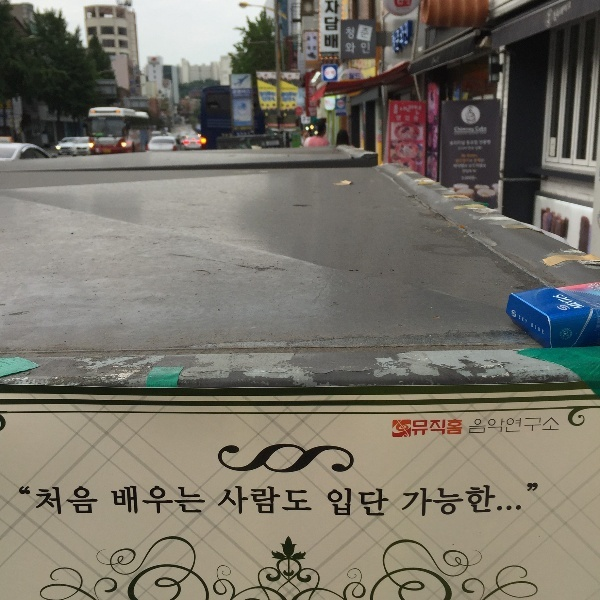text: (325, 2, 336, 49), (417, 483, 432, 517), (433, 483, 448, 517), (449, 483, 464, 517), (465, 483, 480, 517), (481, 483, 496, 517), (497, 483, 512, 517), (513, 483, 528, 517), (33, 486, 48, 517), (49, 486, 64, 517), (65, 486, 80, 517), (81, 486, 96, 517), (113, 487, 128, 516), (129, 487, 144, 516), (145, 487, 160, 516), (161, 487, 176, 516), (177, 487, 192, 516), (241, 487, 256, 516), (257, 487, 272, 516), (273, 487, 288, 516), (289, 487, 304, 516), (18, 486, 32, 517), (337, 490, 352, 518), (353, 490, 368, 518), (369, 490, 384, 518), (404, 483, 416, 517), (193, 487, 207, 516), (226, 487, 240, 516), (529, 483, 540, 517), (391, 20, 400, 55), (545, 417, 561, 434), (417, 420, 432, 437), (433, 420, 448, 437), (481, 417, 496, 434), (497, 417, 512, 434), (513, 417, 528, 434), (529, 417, 544, 434), (327, 490, 336, 518), (401, 20, 408, 55), (449, 420, 463, 437), (353, 26, 369, 40), (305, 487, 312, 516), (353, 42, 368, 55), (308, 102, 320, 117), (470, 417, 480, 434), (567, 294, 576, 312), (562, 331, 576, 342), (577, 294, 585, 312), (309, 87, 320, 100), (259, 92, 272, 103), (385, 490, 390, 518), (532, 323, 544, 334), (565, 328, 576, 340), (401, 105, 416, 113), (345, 26, 352, 40), (337, 2, 339, 49), (563, 331, 576, 338), (345, 42, 352, 55), (289, 92, 297, 103), (281, 92, 288, 103), (401, 116, 416, 121), (465, 131, 480, 136), (520, 315, 528, 324), (450, 141, 464, 146), (97, 486, 99, 517), (453, 164, 464, 169), (467, 141, 480, 145), (413, 420, 416, 437), (454, 131, 464, 136), (465, 176, 475, 181), (455, 127, 464, 132), (465, 127, 474, 132), (481, 160, 496, 163), (338, 102, 352, 105), (481, 141, 491, 145), (470, 159, 480, 163), (467, 154, 480, 157), (468, 147, 480, 150), (455, 159, 464, 163), (468, 164, 480, 167), (241, 90, 250, 94), (325, 72, 336, 75), (273, 92, 276, 103), (417, 105, 421, 113), (481, 126, 487, 131), (481, 131, 487, 136), (111, 487, 112, 516), (233, 90, 240, 94), (475, 126, 480, 131), (474, 159, 480, 163), (465, 170, 472, 173), (473, 170, 480, 173), (396, 116, 400, 121), (476, 147, 480, 151), (465, 159, 469, 163), (481, 164, 486, 167), (457, 148, 464, 150), (369, 42, 370, 55), (465, 164, 467, 169), (462, 176, 464, 181), (461, 154, 464, 157), (399, 105, 400, 113), (417, 116, 418, 121), (465, 148, 467, 150), (481, 147, 482, 151), (465, 154, 466, 157), (463, 170, 464, 173)
